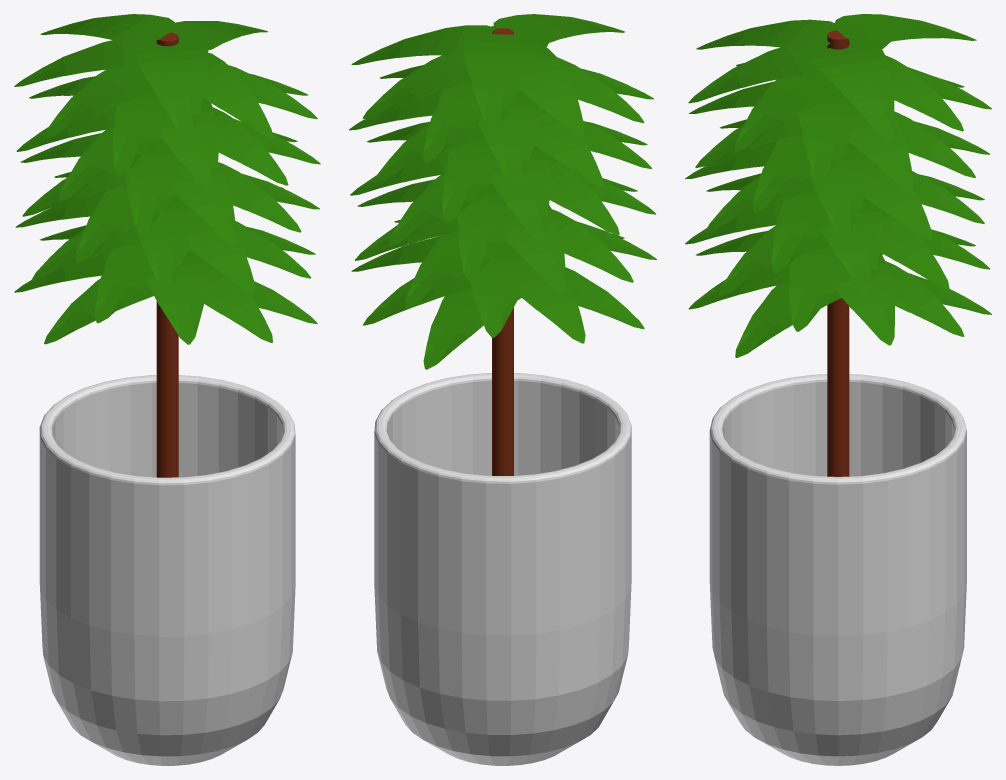
Rendered from bigplant.fbx.
3 renders of one model, left to right at view 1: azimuth 30°, elevation 25°; view 2: azimuth 150°, elevation 25°; view 3: azimuth 270°, elevation 25°, orthographic.
Parts seen in each view (by area): view 1: Cylinder, Plane.048, Cylinder.001, Plane.029, Plane.018, Plane.043, Plane.040, Plane.007, Plane.010, Plane.037, Plane.045, Plane.049 (+22 smaller); view 2: Cylinder, Plane.049, Cylinder.001, Plane.008, Plane.019, Plane.038, Plane.046, Plane.030, Plane.027, Plane.044, Plane, Plane.041 (+22 smaller); view 3: Cylinder, Plane.047, Cylinder.001, Plane.042, Plane.039, Plane.009, Plane.028, Plane.017, Plane.045, Plane.020, Plane.049, Plane.048 (+22 smaller).
Boxes of the visible parts, box(x1,y1,x2,y2) form: Cylinder: box(39, 375, 295, 765); Plane.048: box(133, 43, 208, 139); Cylinder.001: box(156, 32, 178, 477); Plane.029: box(126, 144, 187, 234); Plane.018: box(136, 197, 200, 290); Plane.043: box(43, 68, 153, 138); Plane.040: box(112, 91, 171, 176); Plane.007: box(147, 249, 208, 344); Plane.010: box(94, 241, 154, 323); Plane.037: box(160, 99, 218, 192); Plane.045: box(203, 53, 272, 137); Plane.049: box(40, 14, 174, 45); Cylinder: box(374, 373, 631, 765); Plane.049: box(463, 34, 539, 131); Cylinder.001: box(492, 28, 513, 475); Plane.008: box(470, 245, 532, 337); Plane.019: box(457, 192, 518, 280); Plane.038: box(478, 91, 542, 186); Plane.046: box(519, 46, 584, 137); Plane.030: box(442, 137, 501, 222); Plane.027: box(491, 145, 550, 240); Plane.044: box(362, 55, 470, 118); Plane: box(423, 288, 521, 369); Plane.041: box(423, 82, 520, 162); Cylinder: box(709, 374, 966, 765); Plane.047: box(810, 44, 894, 139); Cylinder.001: box(827, 30, 849, 476); Plane.042: box(734, 73, 841, 151); Plane.039: box(798, 92, 863, 182); Plane.009: box(788, 244, 848, 331); Plane.028: box(809, 145, 874, 238); Plane.017: box(822, 198, 882, 292); Plane.045: box(688, 46, 827, 103); Plane.020: box(771, 190, 831, 273); Plane.049: box(834, 14, 976, 44); Plane.048: box(696, 19, 836, 50).
Size of the model in its own units: 35.81 by 90.4 by 35.79.
